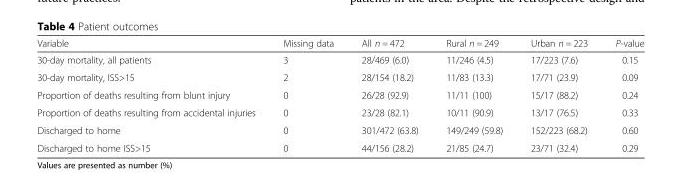table: (36, 37, 643, 153)
table column: (36, 37, 268, 153), (346, 37, 431, 153), (431, 37, 516, 153), (516, 37, 600, 153), (268, 37, 346, 153), (600, 37, 643, 153)
table column header: (36, 37, 643, 51)
table row: (36, 85, 643, 103), (36, 103, 643, 121), (36, 51, 643, 68), (36, 68, 643, 85), (36, 121, 643, 138), (36, 138, 643, 153), (36, 37, 643, 51)
